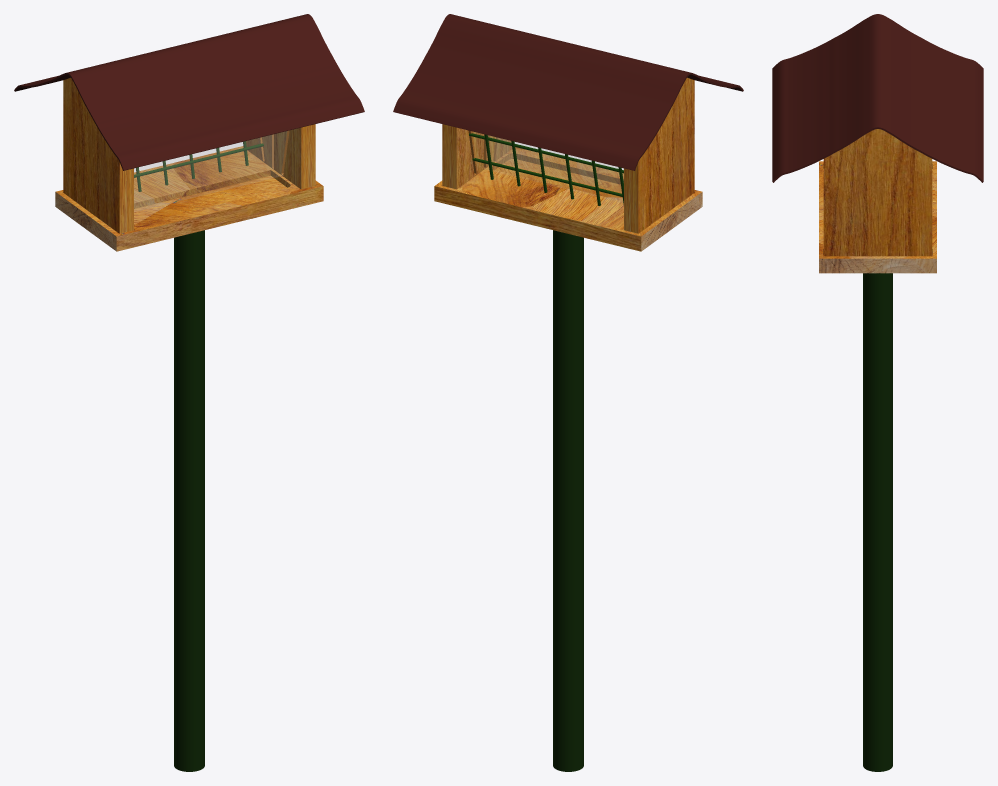
The model's file is mangeoire.glb.
The picture shows the model from 3 angles, left to right: view 1: azimuth 30°, elevation 25°; view 2: azimuth 150°, elevation 25°; view 3: azimuth 270°, elevation 25°; orthographic projection. The views are drawn at different scales.
Parts seen in each view (by area): view 1: ROOF.001_Material.001_0, Cylinder.003_Material.010_0, BAZA.004_Material.029_0, GLASS.003_Material.004_0, LATERALA STANGA.006_Material.017_0, BAZA.004_Material.031_0, LATERALA STANGA.006_Material.020_0, LATERALA STANGA.006_Material.018_0, BAZA.004_Material.033_0; view 2: ROOF.001_Material.001_0, Cylinder.003_Material.010_0, BAZA.004_Material.029_0, LATERALA STANGA.006_Material.017_0, BAZA.004_Material.030_0, GLASS.003_Material.004_0, LATERALA STANGA.006_Material.019_0, LATERALA STANGA.006_Material.020_0, BAZA.004_Material.033_0; view 3: ROOF.001_Material.001_0, Cylinder.003_Material.010_0, LATERALA STANGA.006_Material.017_0, BAZA.004_Material.032_0, BAZA.004_Material.029_0.
Boxes of the visible parts, x1,y1,x2,y2 form: ROOF.001_Material.001_0: (14, 14, 364, 170); Cylinder.003_Material.010_0: (134, 141, 263, 771); BAZA.004_Material.029_0: (56, 146, 322, 236); GLASS.003_Material.004_0: (134, 131, 286, 211); LATERALA STANGA.006_Material.017_0: (63, 77, 119, 233); BAZA.004_Material.031_0: (116, 186, 323, 251); LATERALA STANGA.006_Material.020_0: (246, 127, 301, 188); LATERALA STANGA.006_Material.018_0: (119, 124, 315, 233); BAZA.004_Material.033_0: (55, 192, 116, 251); ROOF.001_Material.001_0: (393, 14, 743, 170); Cylinder.003_Material.010_0: (469, 133, 623, 771); BAZA.004_Material.029_0: (435, 147, 701, 236); LATERALA STANGA.006_Material.017_0: (638, 77, 694, 233); BAZA.004_Material.030_0: (434, 186, 641, 251); GLASS.003_Material.004_0: (494, 138, 623, 192); LATERALA STANGA.006_Material.019_0: (442, 124, 638, 233); LATERALA STANGA.006_Material.020_0: (456, 127, 512, 188); BAZA.004_Material.033_0: (641, 192, 702, 251); ROOF.001_Material.001_0: (772, 14, 983, 182); Cylinder.003_Material.010_0: (863, 273, 892, 771); LATERALA STANGA.006_Material.017_0: (823, 129, 932, 256); BAZA.004_Material.032_0: (819, 258, 936, 273); BAZA.004_Material.029_0: (819, 161, 936, 258).
Bounding box in the file's own units: 0.45 × 1.29 × 0.3546.
Materials: 15 (15 with a texture image).
